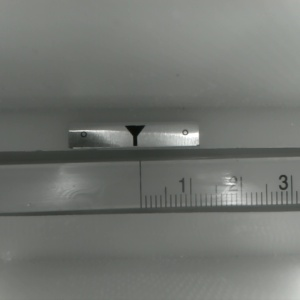1: (178, 177, 185, 193)
2: (226, 176, 237, 191)
3: (277, 174, 288, 190)
finger: (124, 126, 144, 146)
